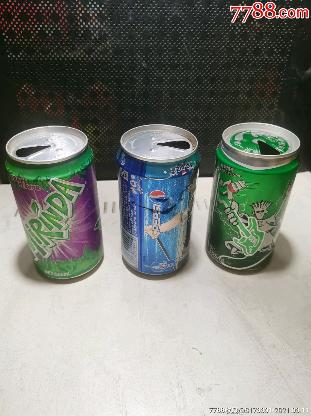Can: (6, 126, 103, 279), (206, 123, 301, 270), (117, 124, 201, 275)
